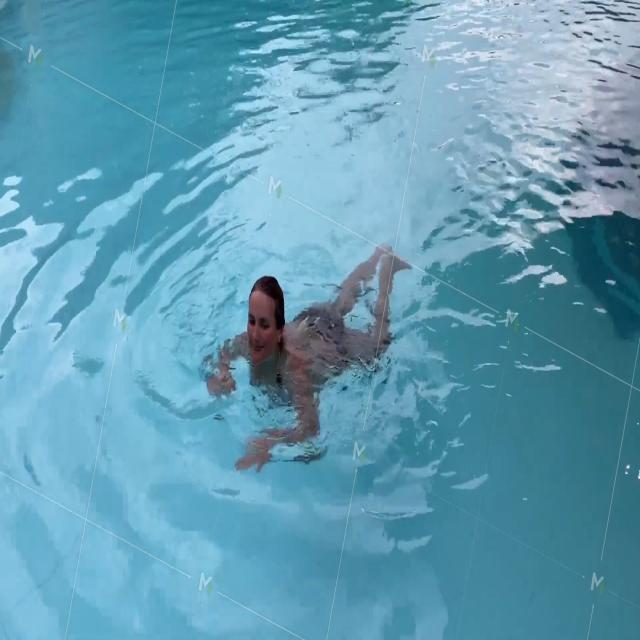swimming: (208, 237, 428, 525)
